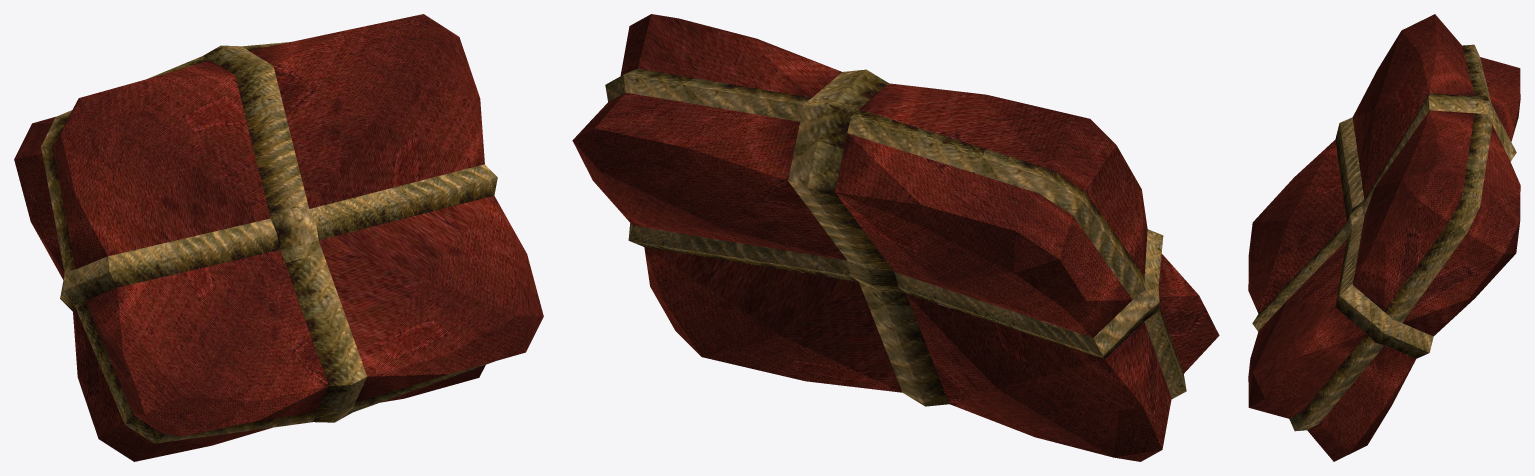
File: KM_ITMI_PACKET_05.glb
The picture shows the model from 3 angles, left to right: view 1: azimuth 30°, elevation 25°; view 2: azimuth 150°, elevation 25°; view 3: azimuth 270°, elevation 25°; orthographic projection. The views are drawn at different scales.
Visible parts, largest first — view 1: KM_ITMI_PACKET_05; view 2: KM_ITMI_PACKET_05; view 3: KM_ITMI_PACKET_05.
Boxes of the visible parts, bbox=[...] form: KM_ITMI_PACKET_05: bbox=[14, 14, 543, 461]; KM_ITMI_PACKET_05: bbox=[572, 14, 1219, 461]; KM_ITMI_PACKET_05: bbox=[1248, 14, 1520, 461].
Size of the model in its own units: 0.4578 by 0.3303 by 0.2744.
2 materials, 2 textured.
